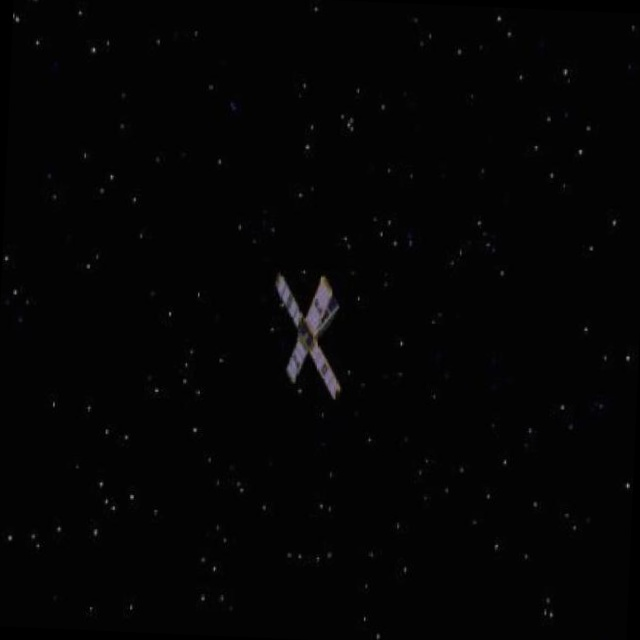medium_debris: (257, 265, 359, 405)
